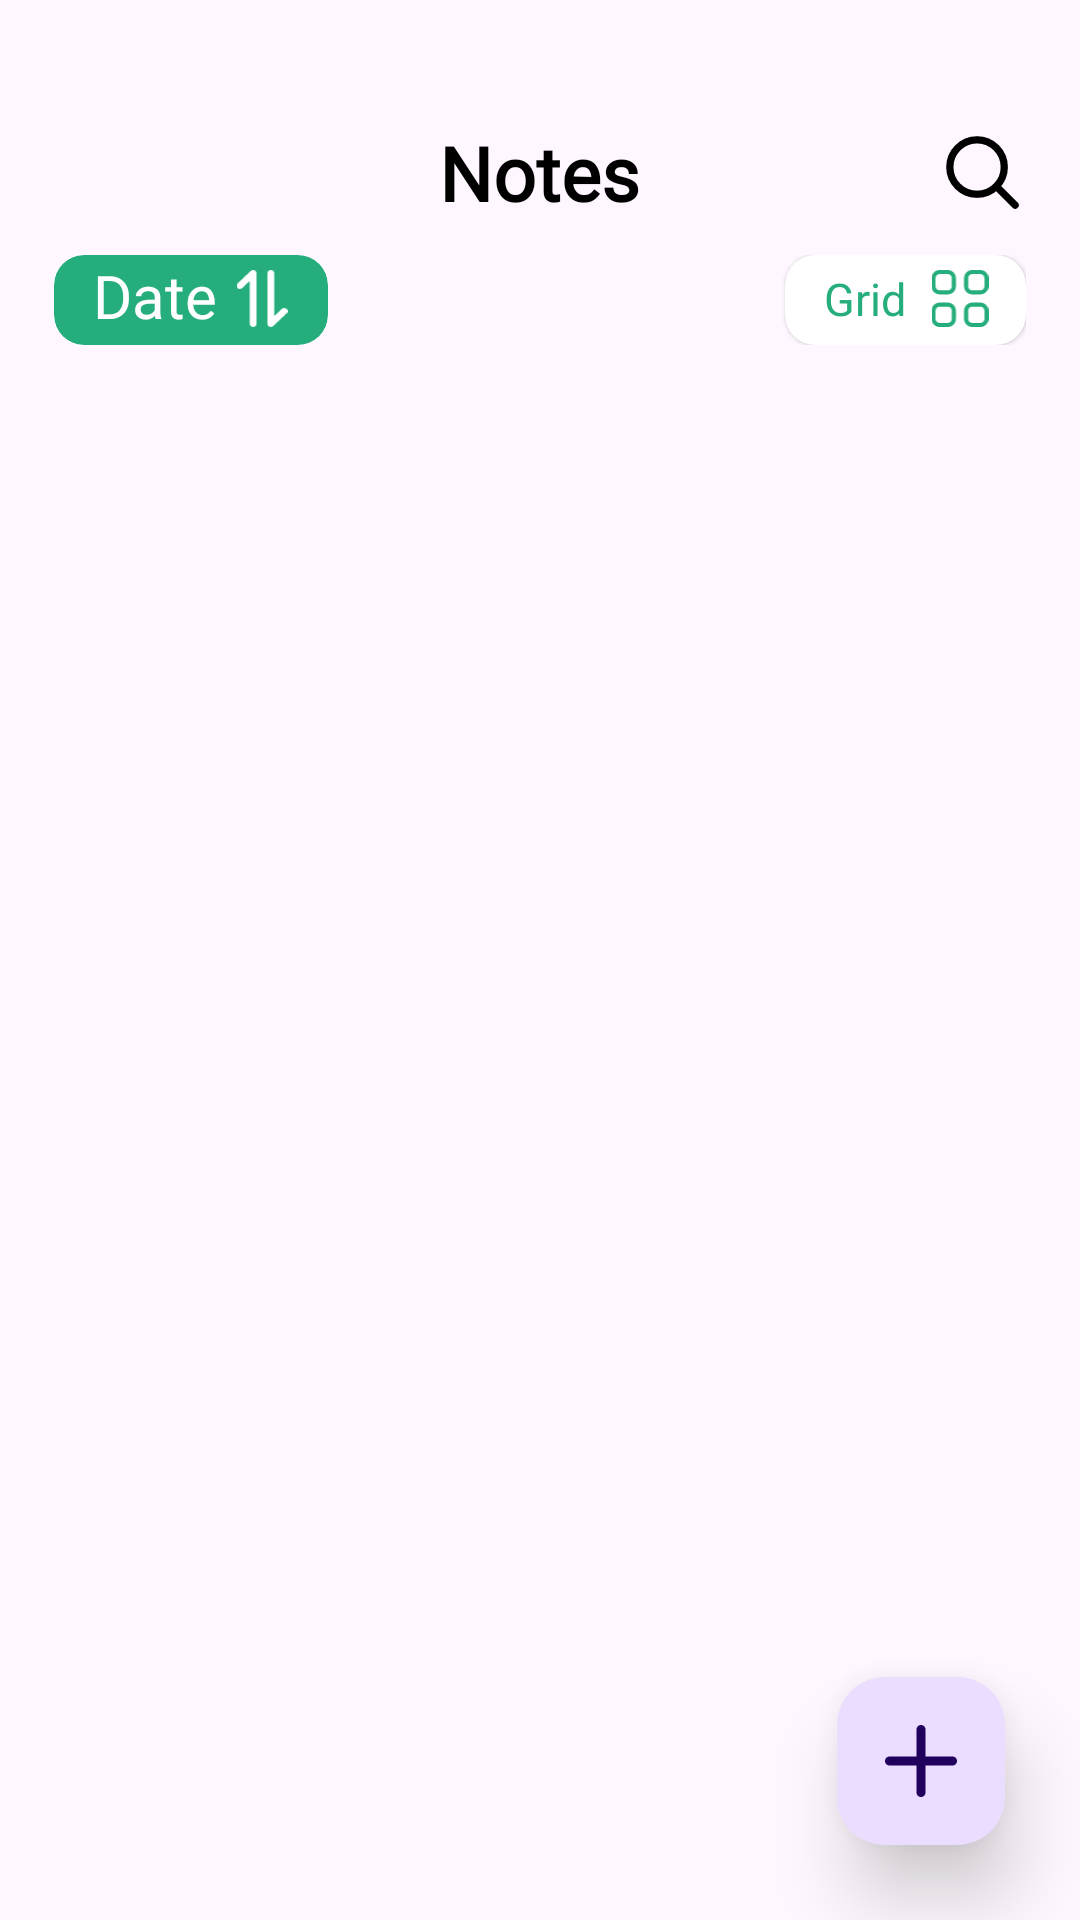

Locate icon controls on the screen. Image size 1080x1920, boxes as (left=x1, top=y1, right=x2, bottom=y2).
add: (left=837, top=1677, right=1005, bottom=1845)
arrowup: (left=237, top=270, right=288, bottom=327)
search: (left=946, top=136, right=1019, bottom=209)
